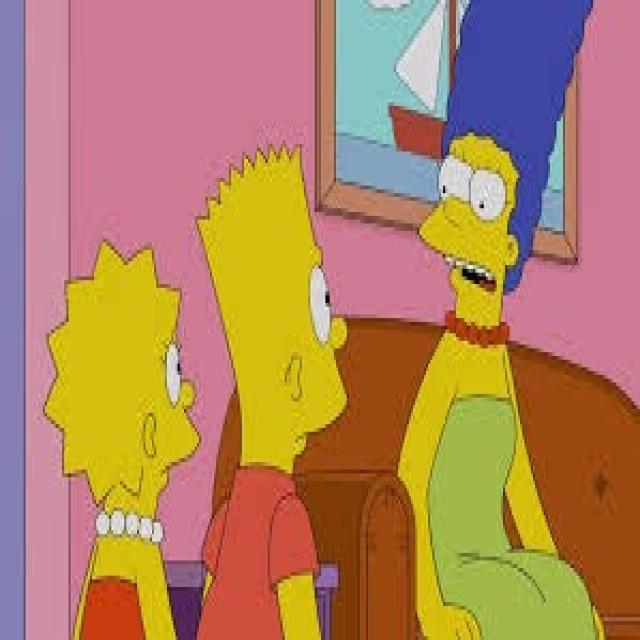Bart Simpson: (187, 142, 352, 487)
Lisa Simpson: (39, 231, 201, 549)
Marge Simpson: (412, 0, 594, 348)
